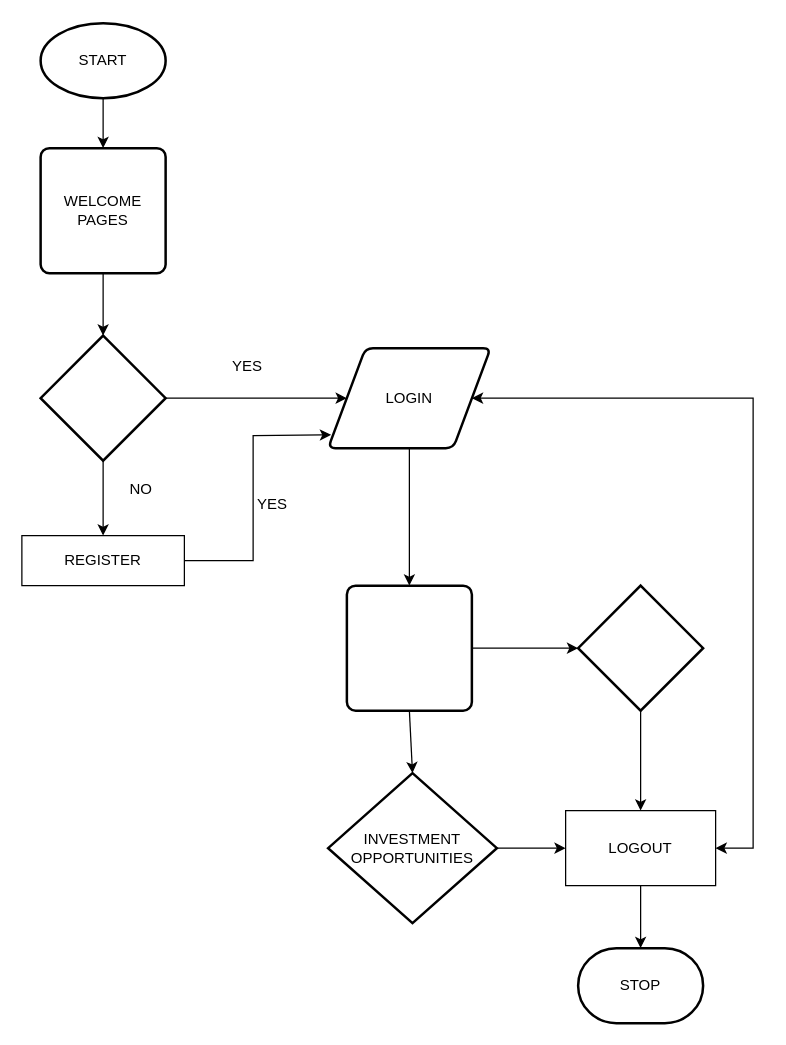
Image size: 786x1045. Some labels were removed from this diagram. Here are the shapes that lost their labels. From the top down, the centre of each, then its label:
At pixel 102 397: "REGISTERED?".
At pixel 408 647: "HOMEPAGE".
At pixel 640 647: "LEARN".
